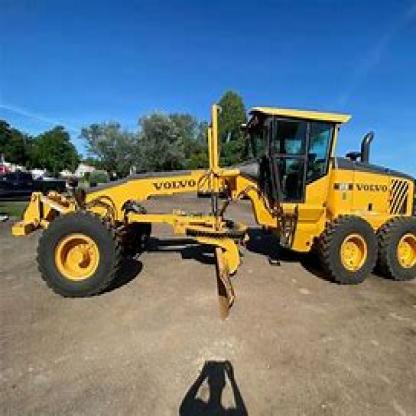bull_dozer/loader/grader: (11, 95, 414, 304)
